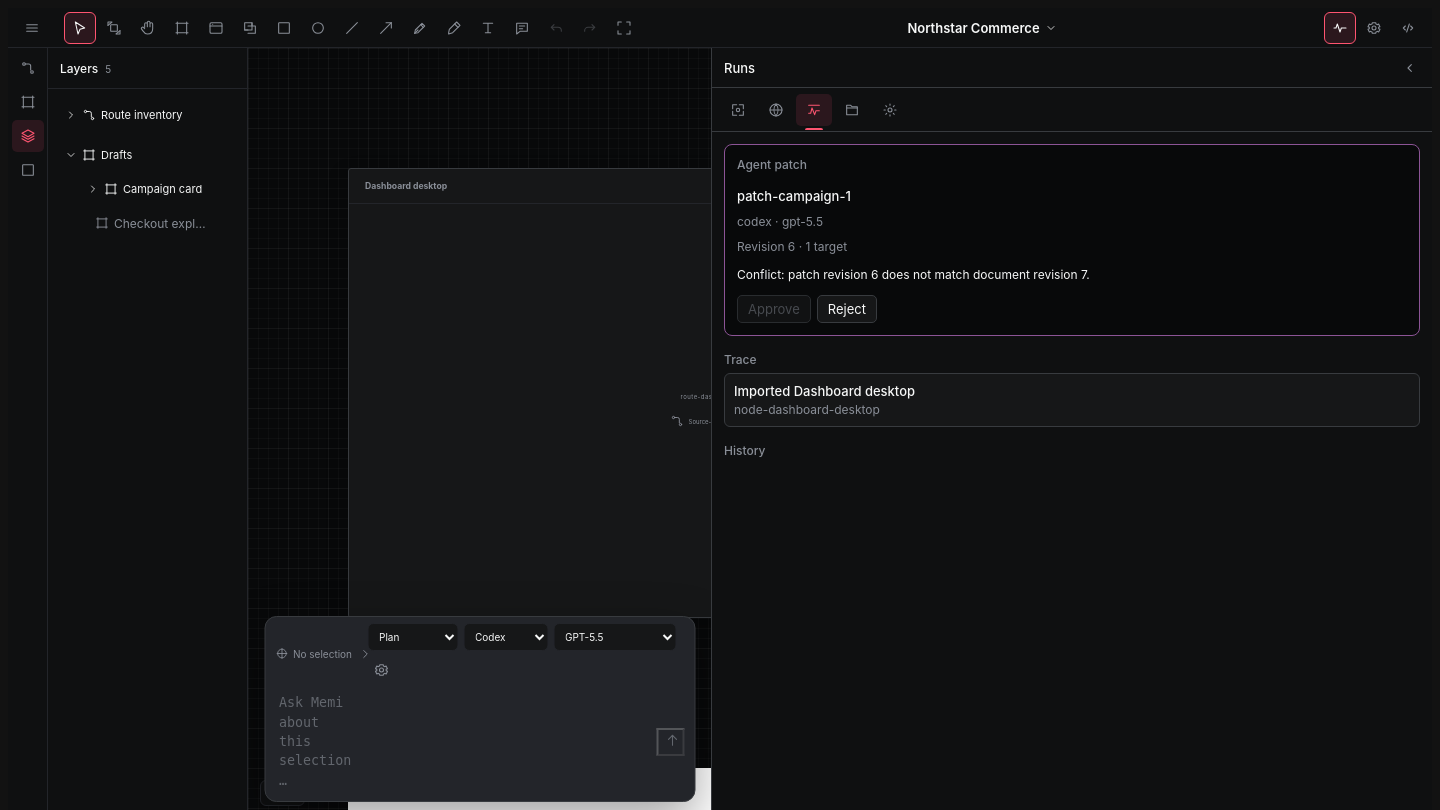
Scenario: CanvasWorkbench agent patch review › keeps stale patches reviewable, disables approval, and permits rejection
The width and height of the screenshot is (1440, 810).
Check: the element named "Canvas tools" is shown, box [64,12,640,44]
Check: the button with aria-label "Approve agent patch patch-campaign-1" is disabled, box [737,295,811,323]
Click the button with aria-label "Reject agent patch patch-campaign-1".
click(847, 309)  # box [817,295,877,323]
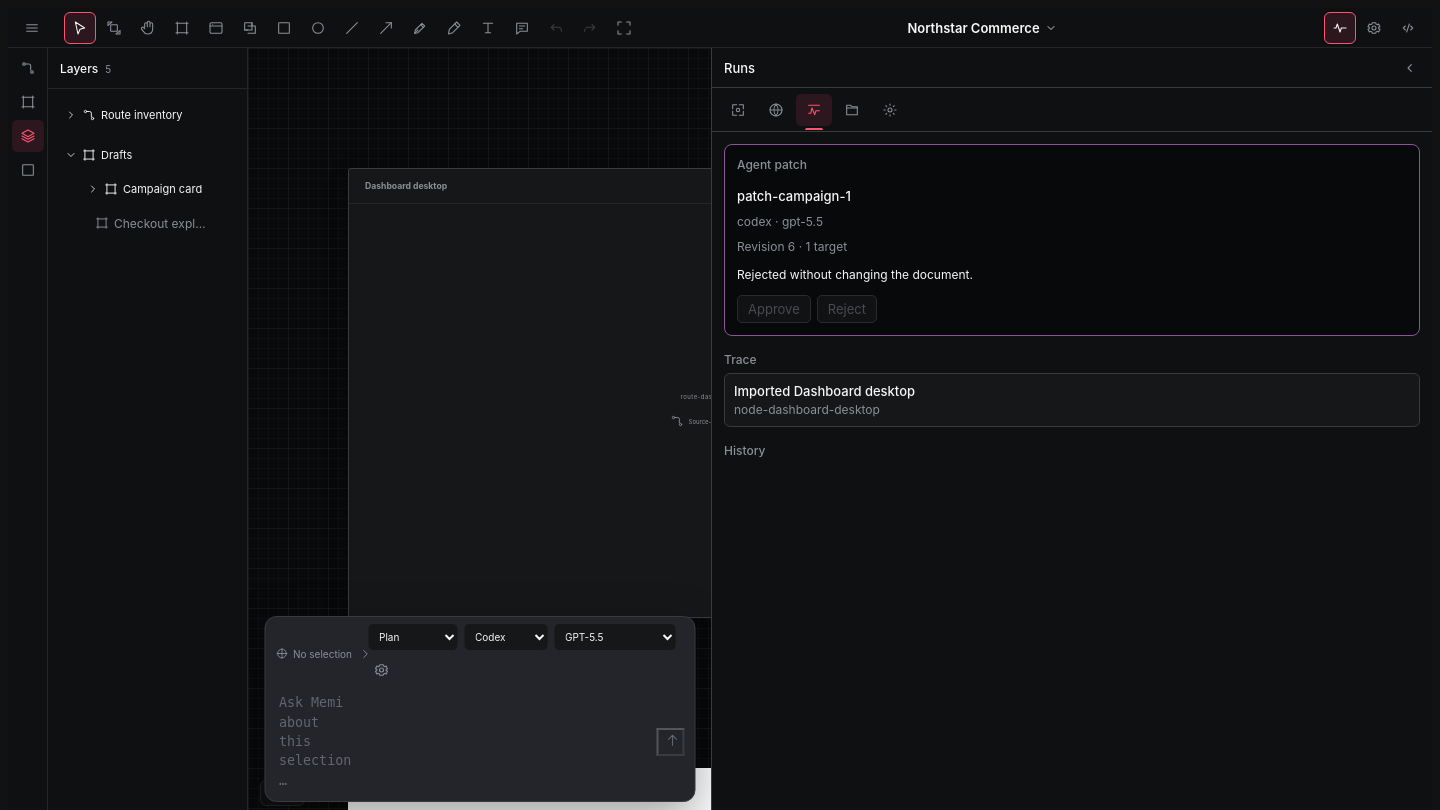
Check: the message "Rejected without changing the document." is shown, box [737,267,973,282]
